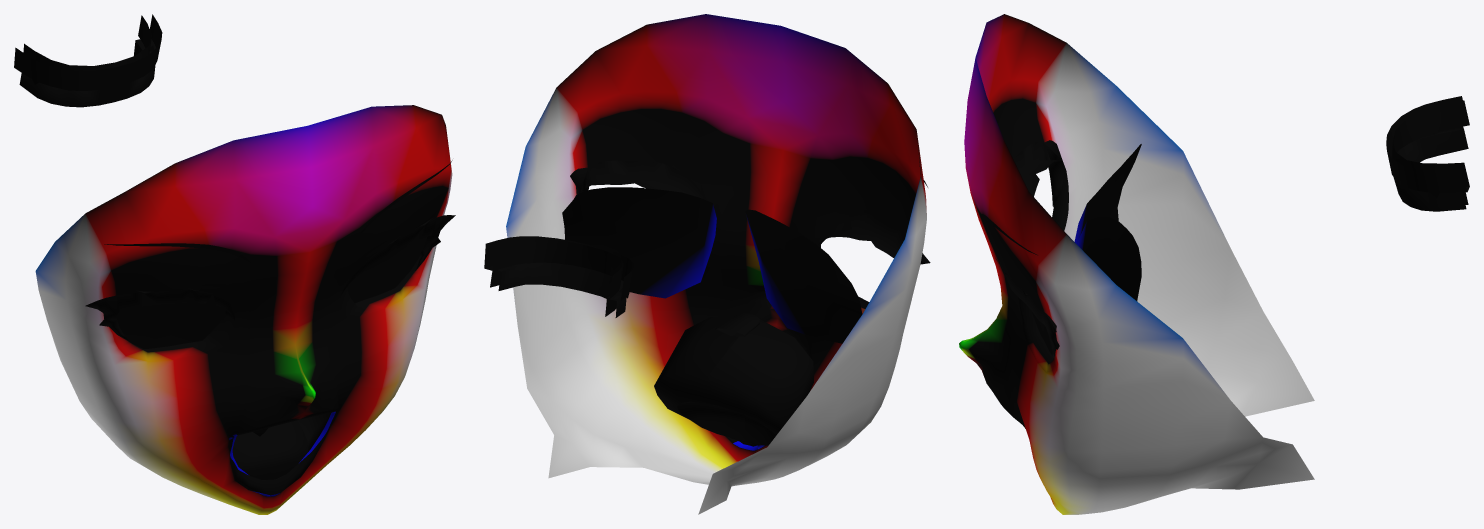
Rendered from scarlet_face.glb.
3 views of the same model, side by side, from view 1: azimuth 30°, elevation 25°; view 2: azimuth 150°, elevation 25°; view 3: azimuth 270°, elevation 25° (orthographic). The views are drawn at different scales.
Visible parts, largest first — view 1: scarlet_face; view 2: scarlet_face; view 3: scarlet_face.
Part boxes in pixels (bbox=[...]): scarlet_face: bbox=[14, 14, 455, 514]; scarlet_face: bbox=[484, 14, 930, 514]; scarlet_face: bbox=[959, 14, 1469, 514].
Bounding box in the file's own units: 0.1537 × 0.1638 × 0.1666.
